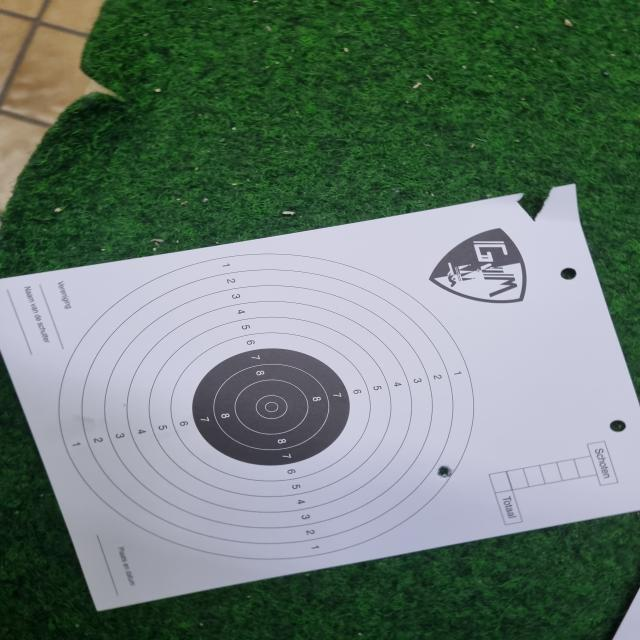1: (436, 466, 453, 480)
Black Contour: (195, 349, 348, 461)
Target: (58, 253, 474, 560)
